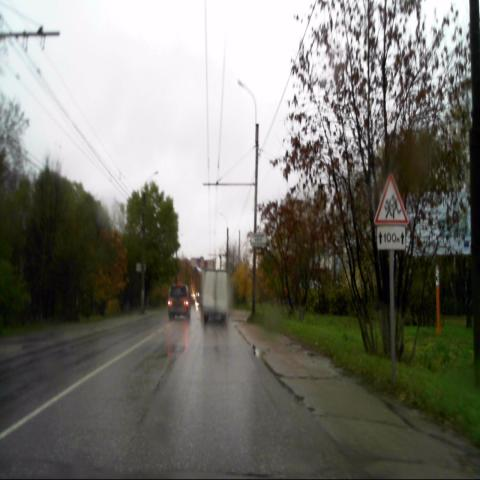1_23: (374, 171, 409, 225)
8_2_1: (376, 223, 407, 251)
